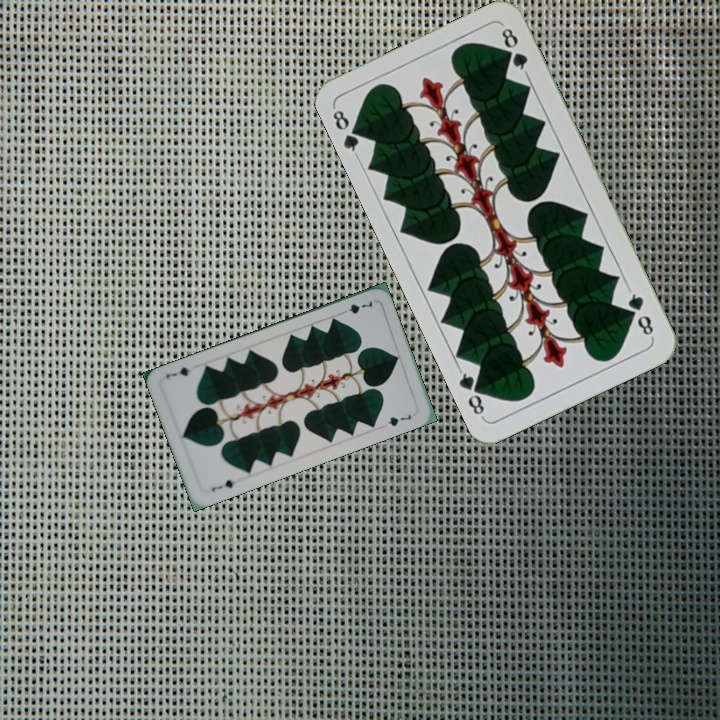G7: (337, 297, 376, 317), (207, 476, 242, 494)
G8: (328, 103, 367, 160), (623, 285, 657, 341)
